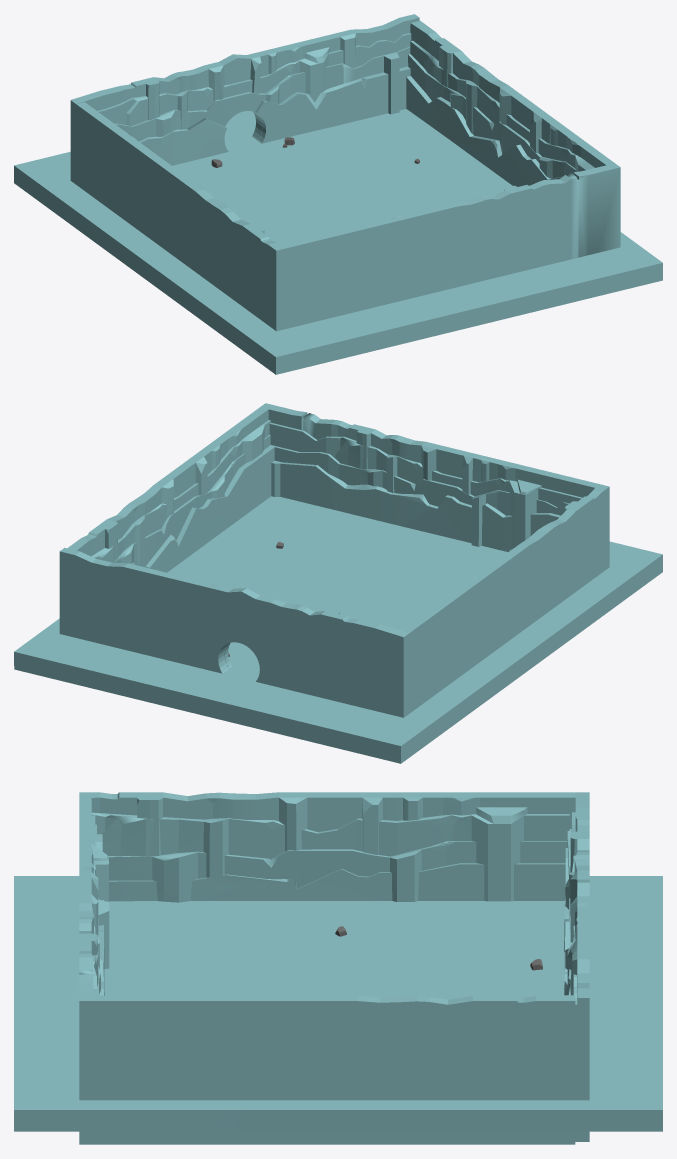
Rendered from Snow field.fbx.
The picture shows the model from 3 angles, top to bottom: view 1: azimuth 30°, elevation 25°; view 2: azimuth 150°, elevation 25°; view 3: azimuth 270°, elevation 25°; orthographic projection. The views are drawn at different scales.
Visible parts, largest first — view 1: Foundation.002, Border.051, Border.044, Border.028, Border.026, Border.027, Border.025, Border.031, Border.032, Border.030, Border.029; view 2: Foundation.002, Border.028, Border.044, Border.049, Border.051, Border.050, Border.031, Border.032, Border.045, Border.030, Border.029; view 3: Foundation.002, Border.031, Border.038, Border.044, Border.033, Border.041, Border.028, Border.051, Border.050, Border.026, Border.049, Border.027 (+2 smaller).
Part boxes in pixels (x1,y1,x2,y2): Foundation.002: (14,109,662,374); Border.051: (272,164,620,331); Border.044: (76,102,281,327); Border.028: (70,14,419,184); Border.026: (139,66,410,165); Border.027: (76,25,411,185); Border.025: (77,46,410,186); Border.031: (410,20,615,167); Border.032: (406,76,562,186); Border.030: (410,40,594,171); Border.029: (408,54,576,178); Foundation.002: (14,496,662,763); Border.028: (59,547,409,717); Border.044: (394,487,605,717); Border.049: (271,460,560,551); Border.051: (262,403,609,569); Border.050: (269,422,582,548); Border.031: (67,406,269,560); Border.032: (132,445,275,572); Border.045: (270,445,569,546); Border.030: (91,420,270,565); Border.029: (114,434,270,566); Foundation.002: (14,876,662,1131); Border.031: (89,993,575,1144); Border.038: (91,807,569,901); Border.044: (89,792,575,888); Border.033: (108,841,567,902); Border.041: (109,863,565,901); Border.028: (570,792,589,1141); Border.051: (79,792,98,1144); Border.050: (91,814,108,1144); Border.026: (563,848,571,1143); Border.049: (96,834,104,1144); Border.027: (567,812,577,1141).
Bounding box in the file's own units: 11450 × 3465 × 13423.
